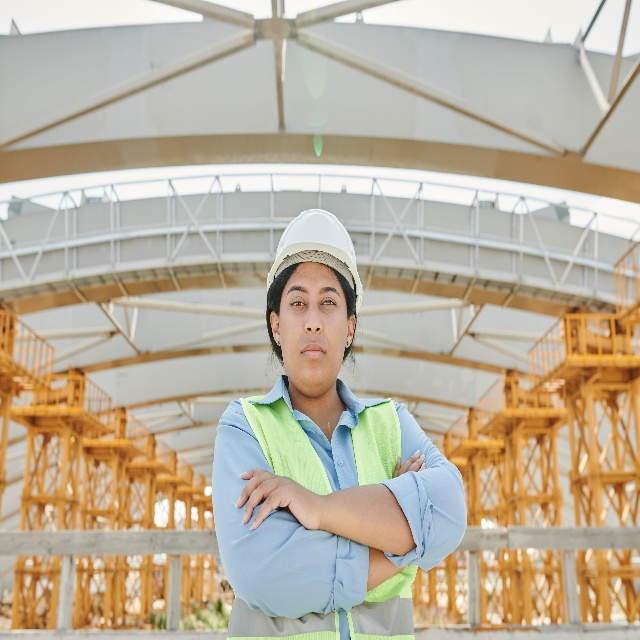Sin_guantes: (234, 467, 301, 542), (392, 450, 426, 477)
